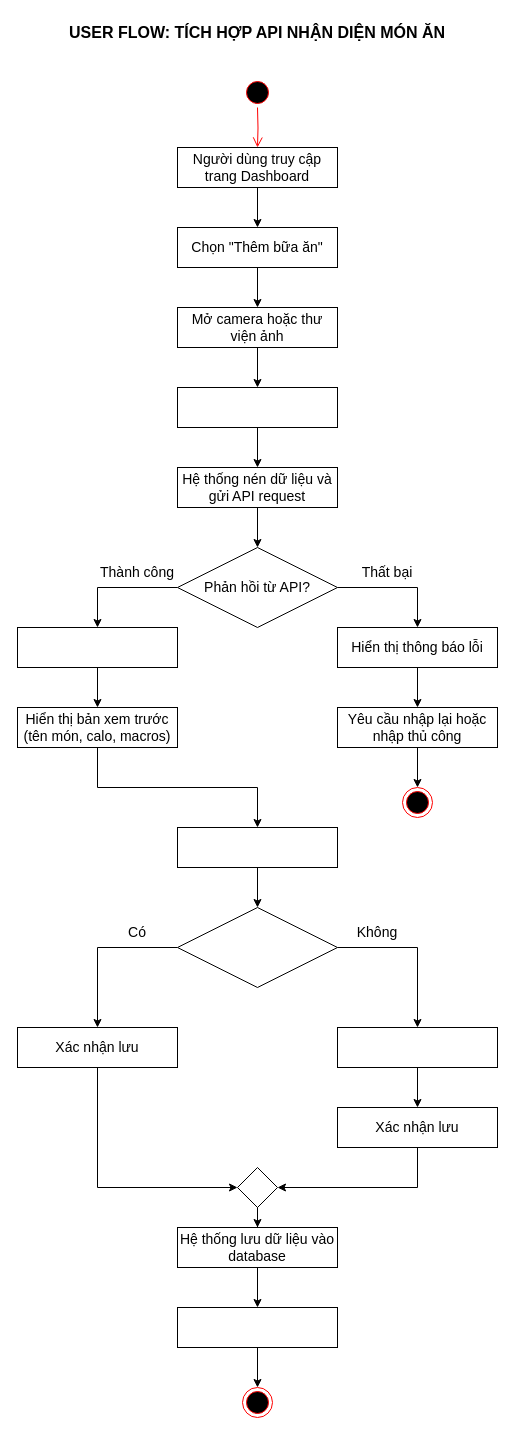
Image size: 515x1435. Some labels were removed from this diagram. The centre of each missing label's shape, as x and y in pixels:
"Cập nhận trạng thái và quay lại Dashboard" belongs at (x=257, y=1327).
"Hệ thống parse JSON" belongs at (x=97, y=647).
"Người dùng chỉnh sửa thủ công" belongs at (x=417, y=1047).
"Người dùng chụp ảnh/chọn ảnh món ăn" belongs at (x=257, y=407).
"Người dùng kiểm tra thông tin" belongs at (x=257, y=847).
"Thông tin chính xác?" belongs at (x=257, y=947).
